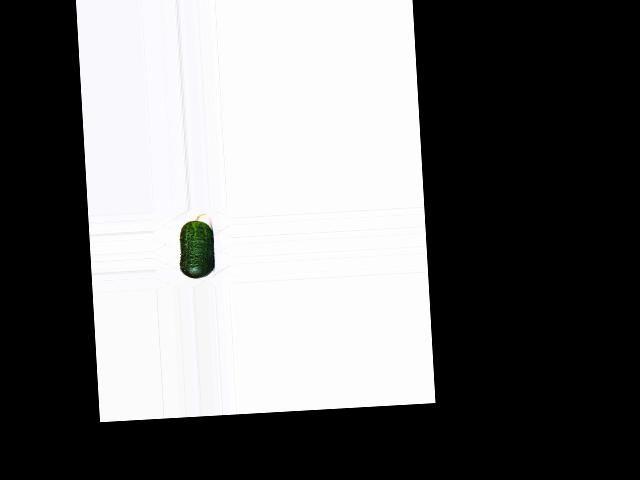cucumber: (177, 213, 215, 279)
